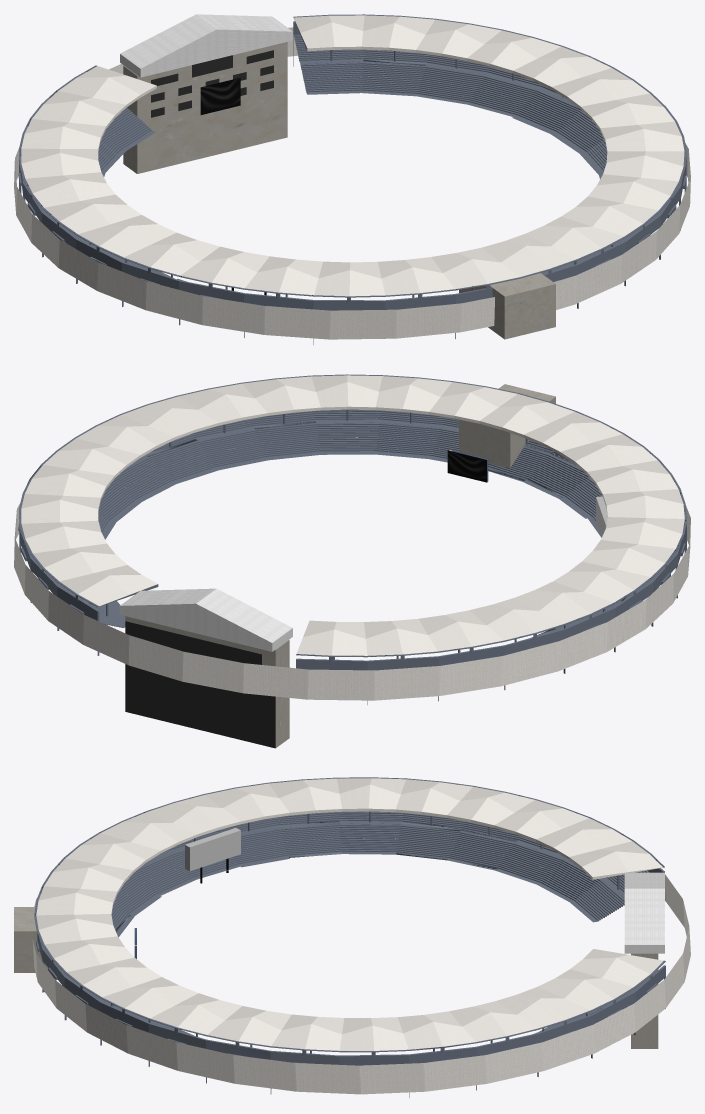
Rendered from stands_1.fbx.
3 views of the same model, one above another, from view 1: azimuth 30°, elevation 25°; view 2: azimuth 150°, elevation 25°; view 3: azimuth 270°, elevation 25° (orthographic). The views are drawn at different scales.
Visible parts, largest first — view 1: Cube, Circle, Cube_002, Cube_030, Cube_001, hireus_001; view 2: Cube, Circle, Cube_002, Cube_030, Cube_001, hireus; view 3: Cube, Circle, Cube_030, Cube_003, Cube_001, Cube_002.
Boxes of the visible parts, box(x1,y1,x2,y2) form: Cube: box(18, 14, 686, 344); Circle: box(14, 27, 690, 339); Cube_002: box(123, 42, 287, 173); Cube_030: box(120, 14, 292, 77); Cube_001: box(459, 273, 555, 339); hireus_001: box(200, 77, 240, 114); Cube: box(18, 374, 686, 704); Circle: box(14, 503, 690, 700); Cube_002: box(125, 616, 289, 748); Cube_030: box(119, 588, 292, 651); Cube_001: box(459, 384, 555, 467); hireus: box(447, 449, 488, 482); Cube: box(34, 777, 665, 1097); Circle: box(32, 874, 690, 1094); Cube_030: box(624, 872, 664, 953); Cube_003: box(185, 828, 240, 871); Cube_001: box(14, 907, 47, 972); Cube_002: box(631, 953, 658, 1048).
Bounding box in the file's own units: 100550 × 21048 × 103190.
11 materials, 7 textured.
